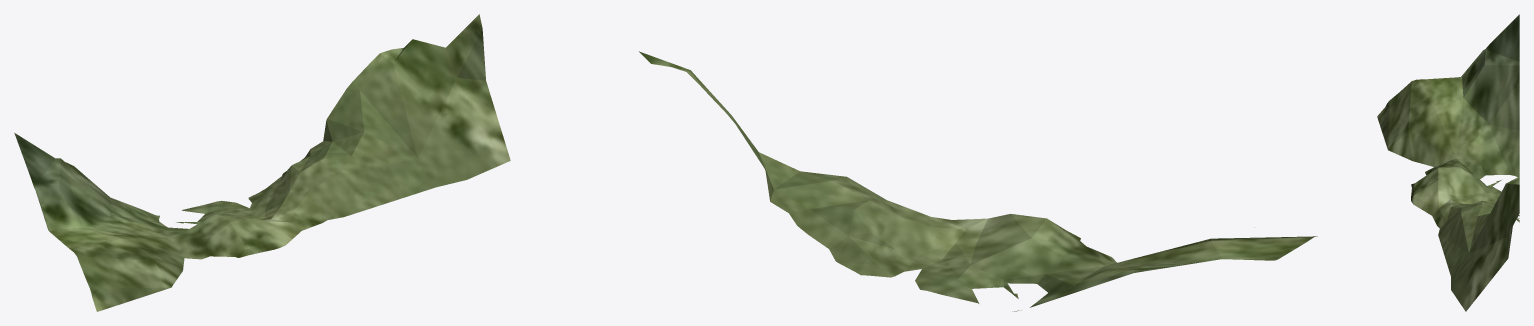
The picture shows the model from 3 angles, left to right: view 1: azimuth 30°, elevation 25°; view 2: azimuth 150°, elevation 25°; view 3: azimuth 270°, elevation 25°; orthographic projection. The views are drawn at different scales.
Bounding box in the file's own units: 2.95 × 0.7504 × 0.9087.
Materials: 1 (1 with a texture image).
